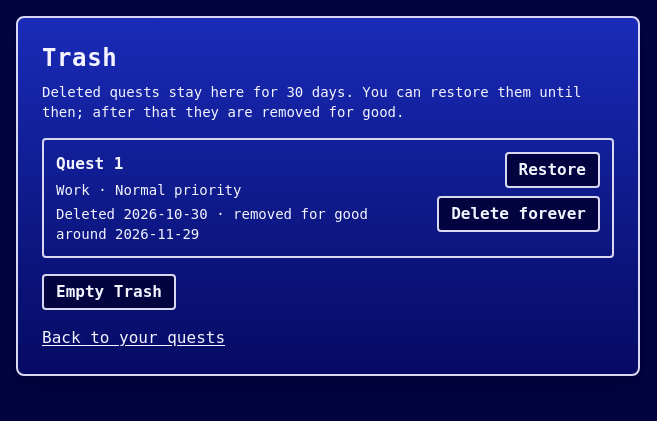
Scenario: Trash page › says 'quest' for a Trash of one
Click the button "Empty Trash" at [109, 292], box [42,274,176,310]
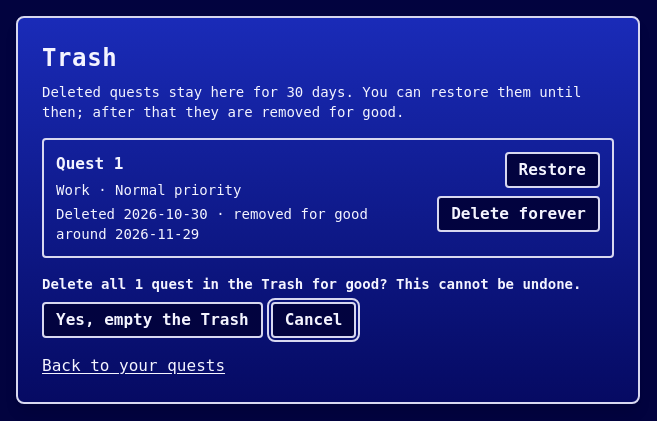
Now the text "Delete all 1 quest in the Trash for good? This cannot be undone." is shown, box [42,274,614,294]
